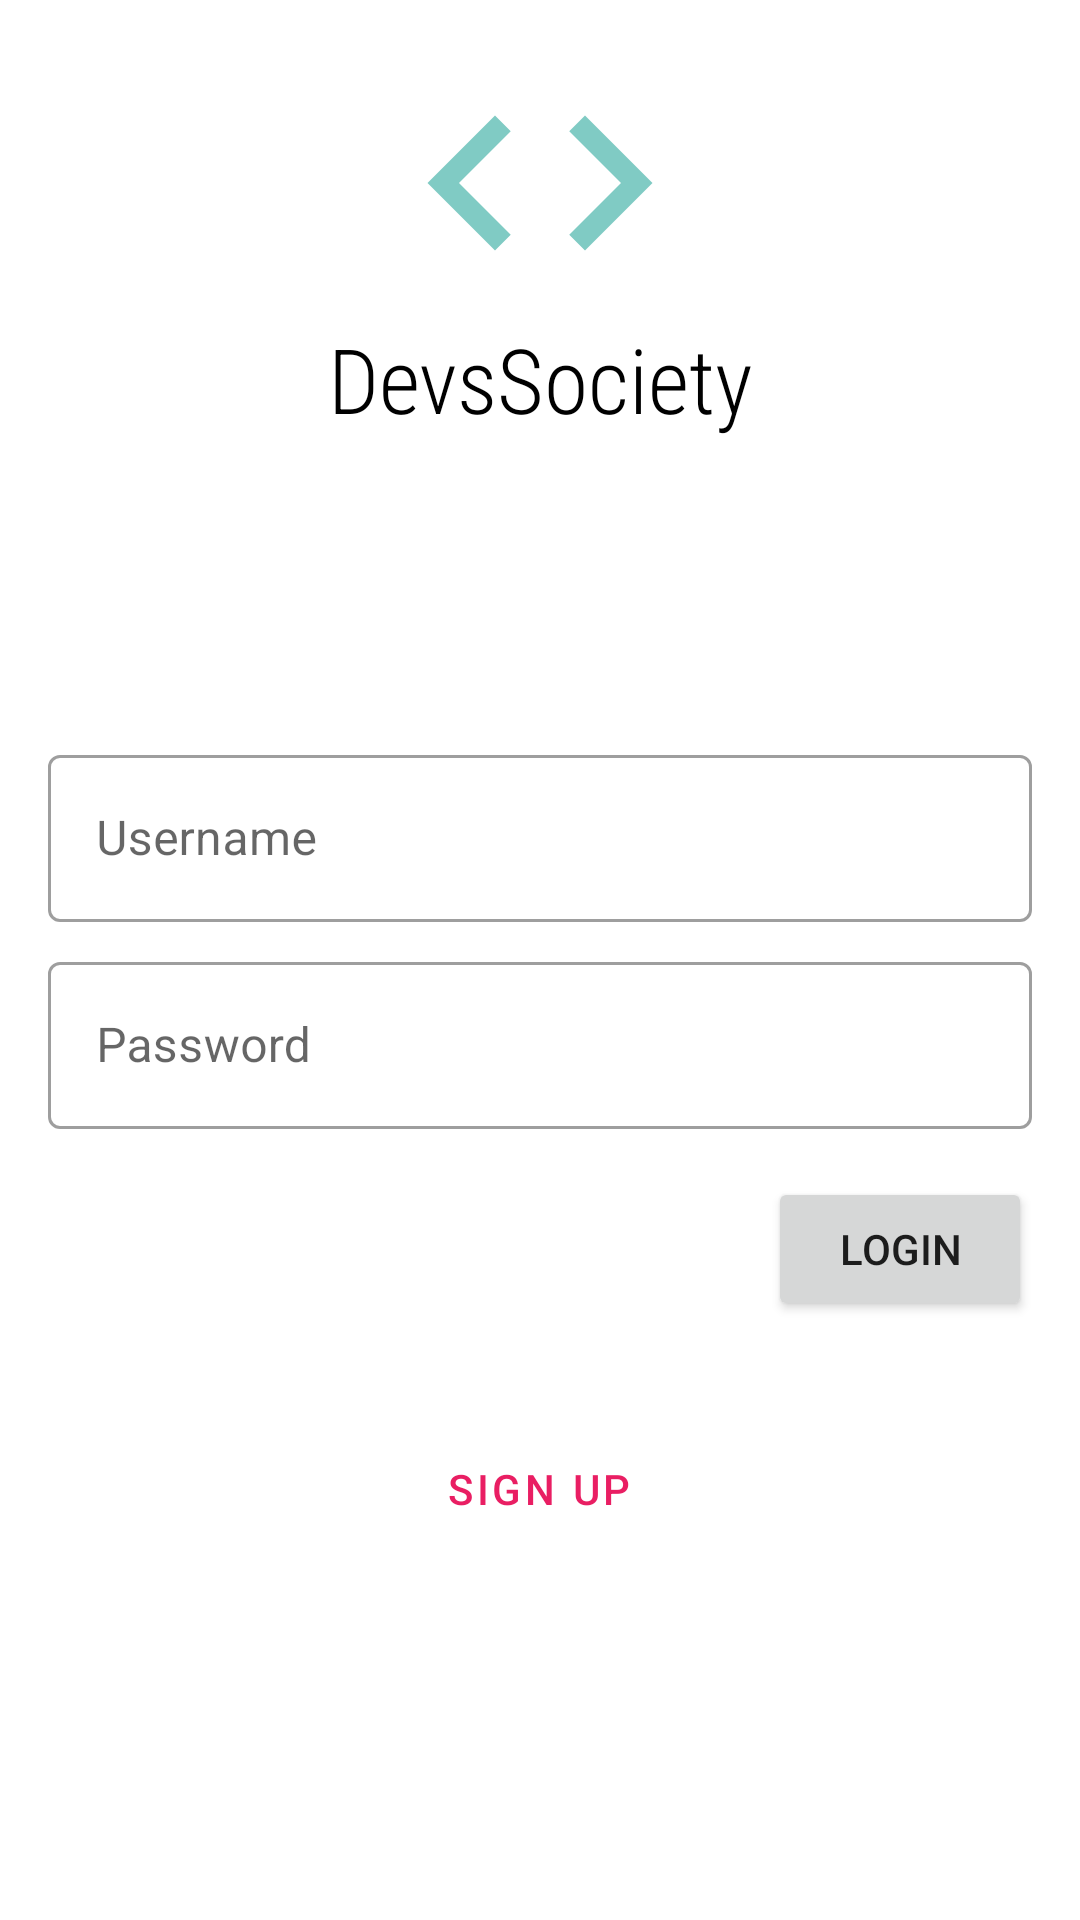

Icon click points for this 1080*1920 phone screenshot, format (x=x, y=y):
code: (x=540, y=183)
